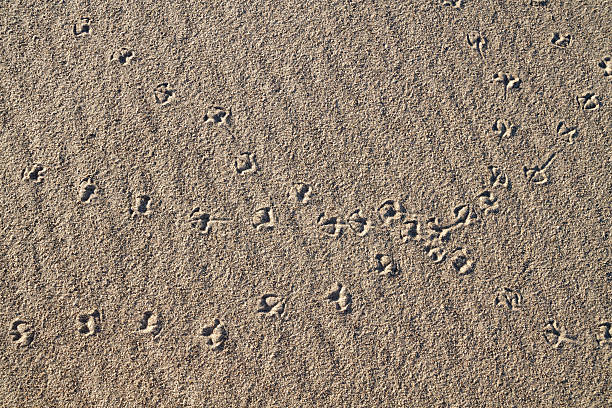animal_foot_print: (399, 214, 451, 246), (189, 207, 228, 233), (523, 153, 555, 183), (543, 319, 573, 347), (201, 318, 227, 350), (421, 217, 451, 242), (377, 199, 405, 225), (8, 319, 34, 347), (326, 283, 351, 312), (492, 72, 520, 97), (317, 213, 346, 237), (449, 247, 473, 274), (494, 287, 522, 309), (137, 311, 161, 336), (347, 209, 370, 235), (77, 309, 100, 335), (257, 294, 284, 316), (491, 119, 516, 142), (452, 204, 478, 226), (372, 254, 398, 276), (251, 207, 274, 230), (129, 194, 152, 217), (488, 165, 510, 189), (466, 32, 486, 58), (399, 216, 419, 242), (234, 152, 257, 174), (477, 190, 498, 214), (204, 106, 230, 124), (557, 121, 577, 144), (153, 83, 174, 104), (424, 243, 446, 263), (22, 163, 45, 182), (576, 92, 600, 110), (79, 177, 96, 202), (291, 182, 311, 203), (111, 47, 133, 64), (596, 322, 611, 345), (73, 17, 91, 36), (550, 32, 571, 47), (598, 56, 611, 76), (441, 0, 462, 8), (529, 0, 547, 5)
